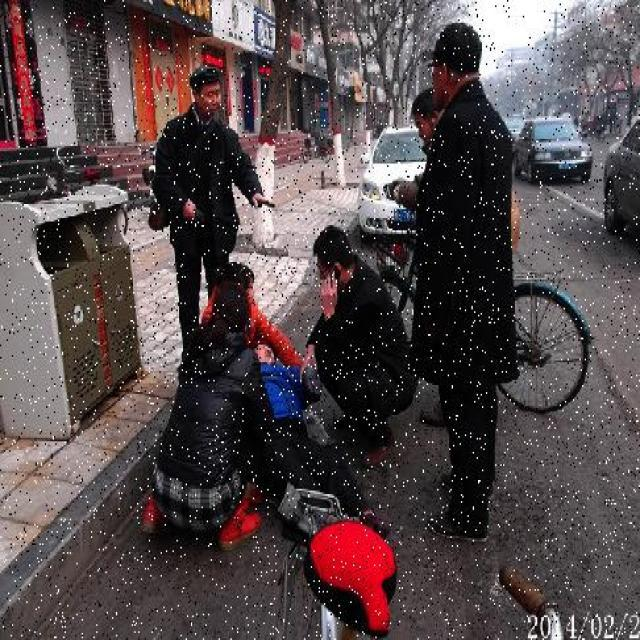fall: (241, 338, 370, 522)
